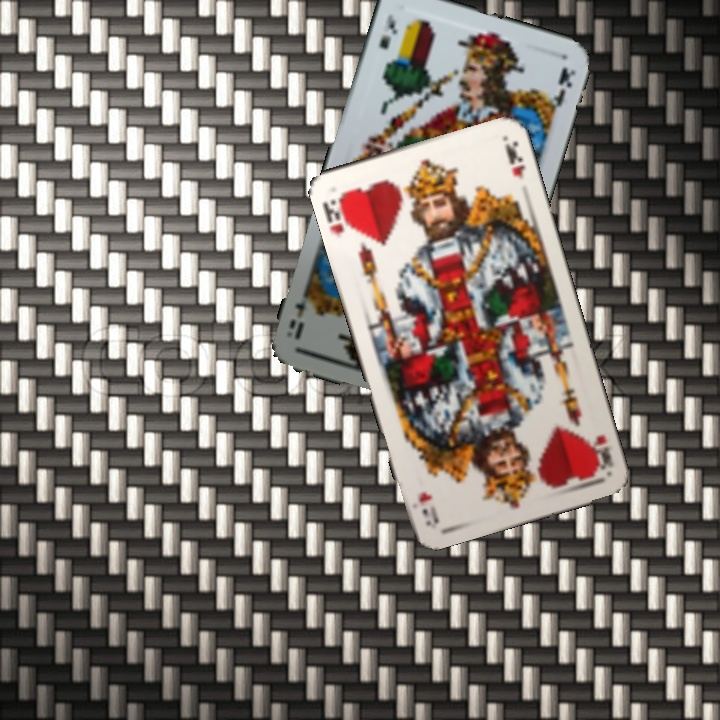EK: (374, 10, 400, 52)
HK: (318, 189, 354, 238), (583, 431, 617, 474)
